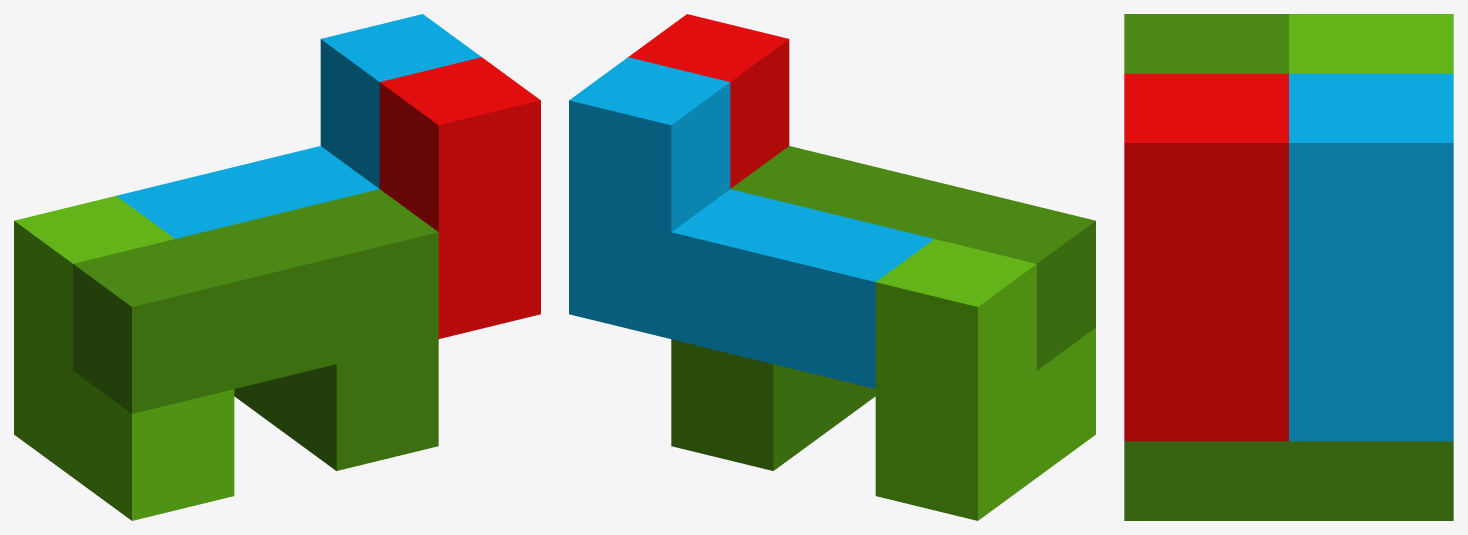
The picture shows the model from 3 angles, left to right: view 1: azimuth 30°, elevation 25°; view 2: azimuth 150°, elevation 25°; view 3: azimuth 270°, elevation 25°; orthographic projection. The views are drawn at different scales.
Parts seen in each view (by area): view 1: mergedBlocks(Clone); view 2: mergedBlocks(Clone); view 3: mergedBlocks(Clone).
Boxes of the visible parts, x1,y1,x2,y2 form: mergedBlocks(Clone): (14, 14, 540, 520); mergedBlocks(Clone): (569, 14, 1095, 520); mergedBlocks(Clone): (1124, 14, 1453, 520).
Size of the model in its own units: 4 by 3 by 2.
Materials: 4 (4 with a texture image).
